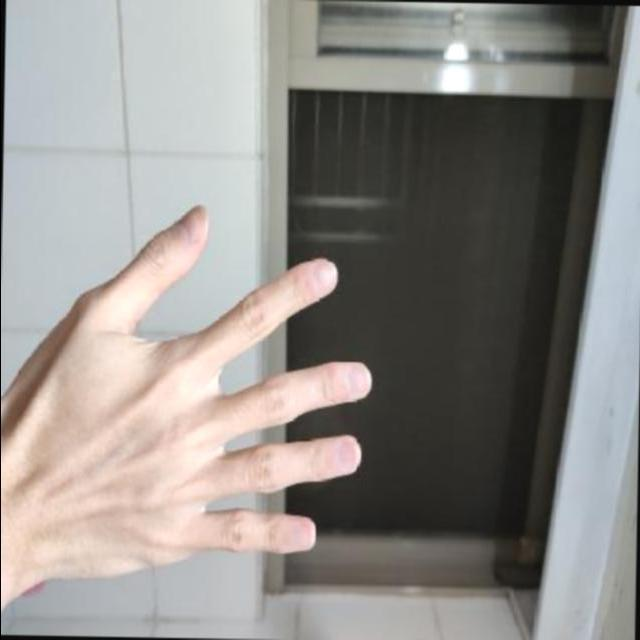hand: (0, 199, 391, 610)
